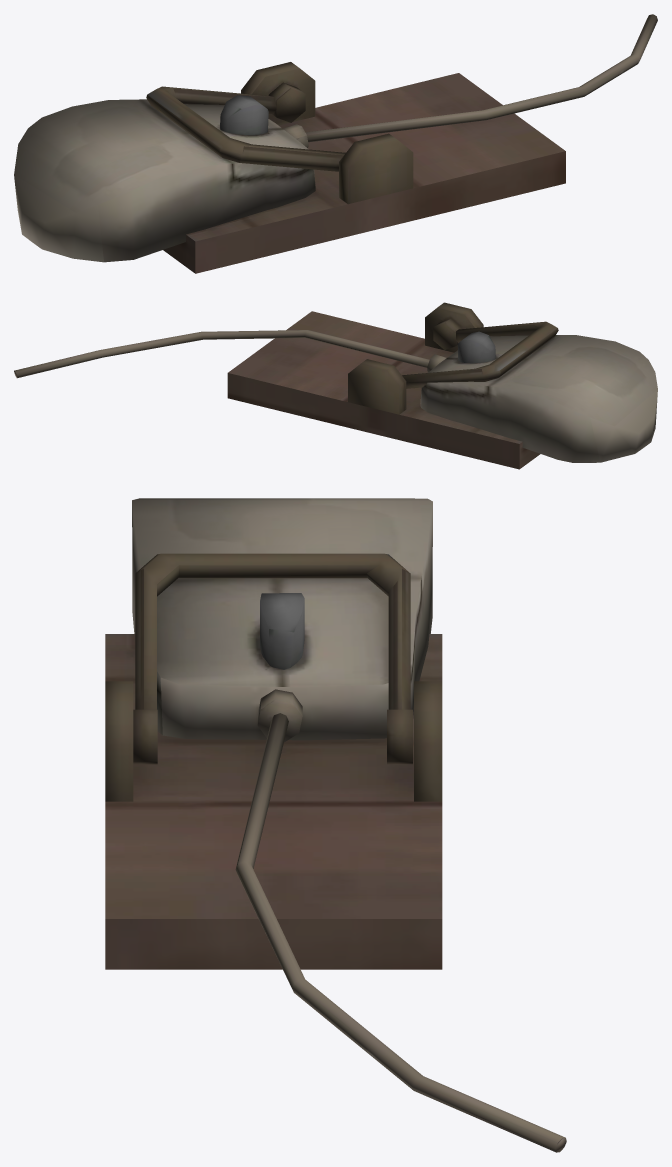
The picture shows the model from 3 angles, top to bottom: view 1: azimuth 30°, elevation 25°; view 2: azimuth 150°, elevation 25°; view 3: azimuth 270°, elevation 25°; orthographic projection. The views are drawn at different scales.
Parts seen in each view (by area): view 1: body0_model0_lod0_mesh0; view 2: body0_model0_lod0_mesh0; view 3: body0_model0_lod0_mesh0.
Part boxes in pixels (x1,y1,x2,y2): body0_model0_lod0_mesh0: (14,14,657,273); body0_model0_lod0_mesh0: (14,302,657,469); body0_model0_lod0_mesh0: (105,498,566,1152).
Size of the model in its own units: 37.04 by 5.49 by 13.15.
Materials: 1 (1 with a texture image).
